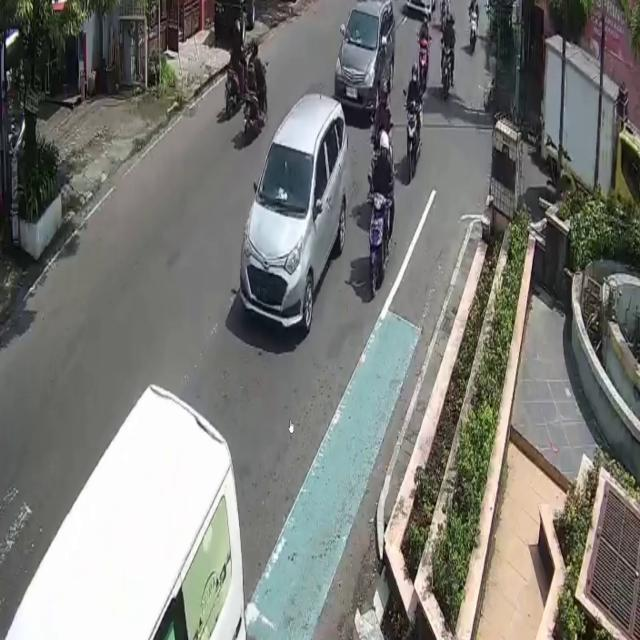bus: (368, 191, 383, 299), (405, 100, 420, 182), (441, 44, 454, 110), (418, 35, 428, 89)
motorcycle: (0, 386, 246, 640), (240, 91, 347, 333), (336, 0, 394, 113)
truck: (538, 35, 640, 226)
